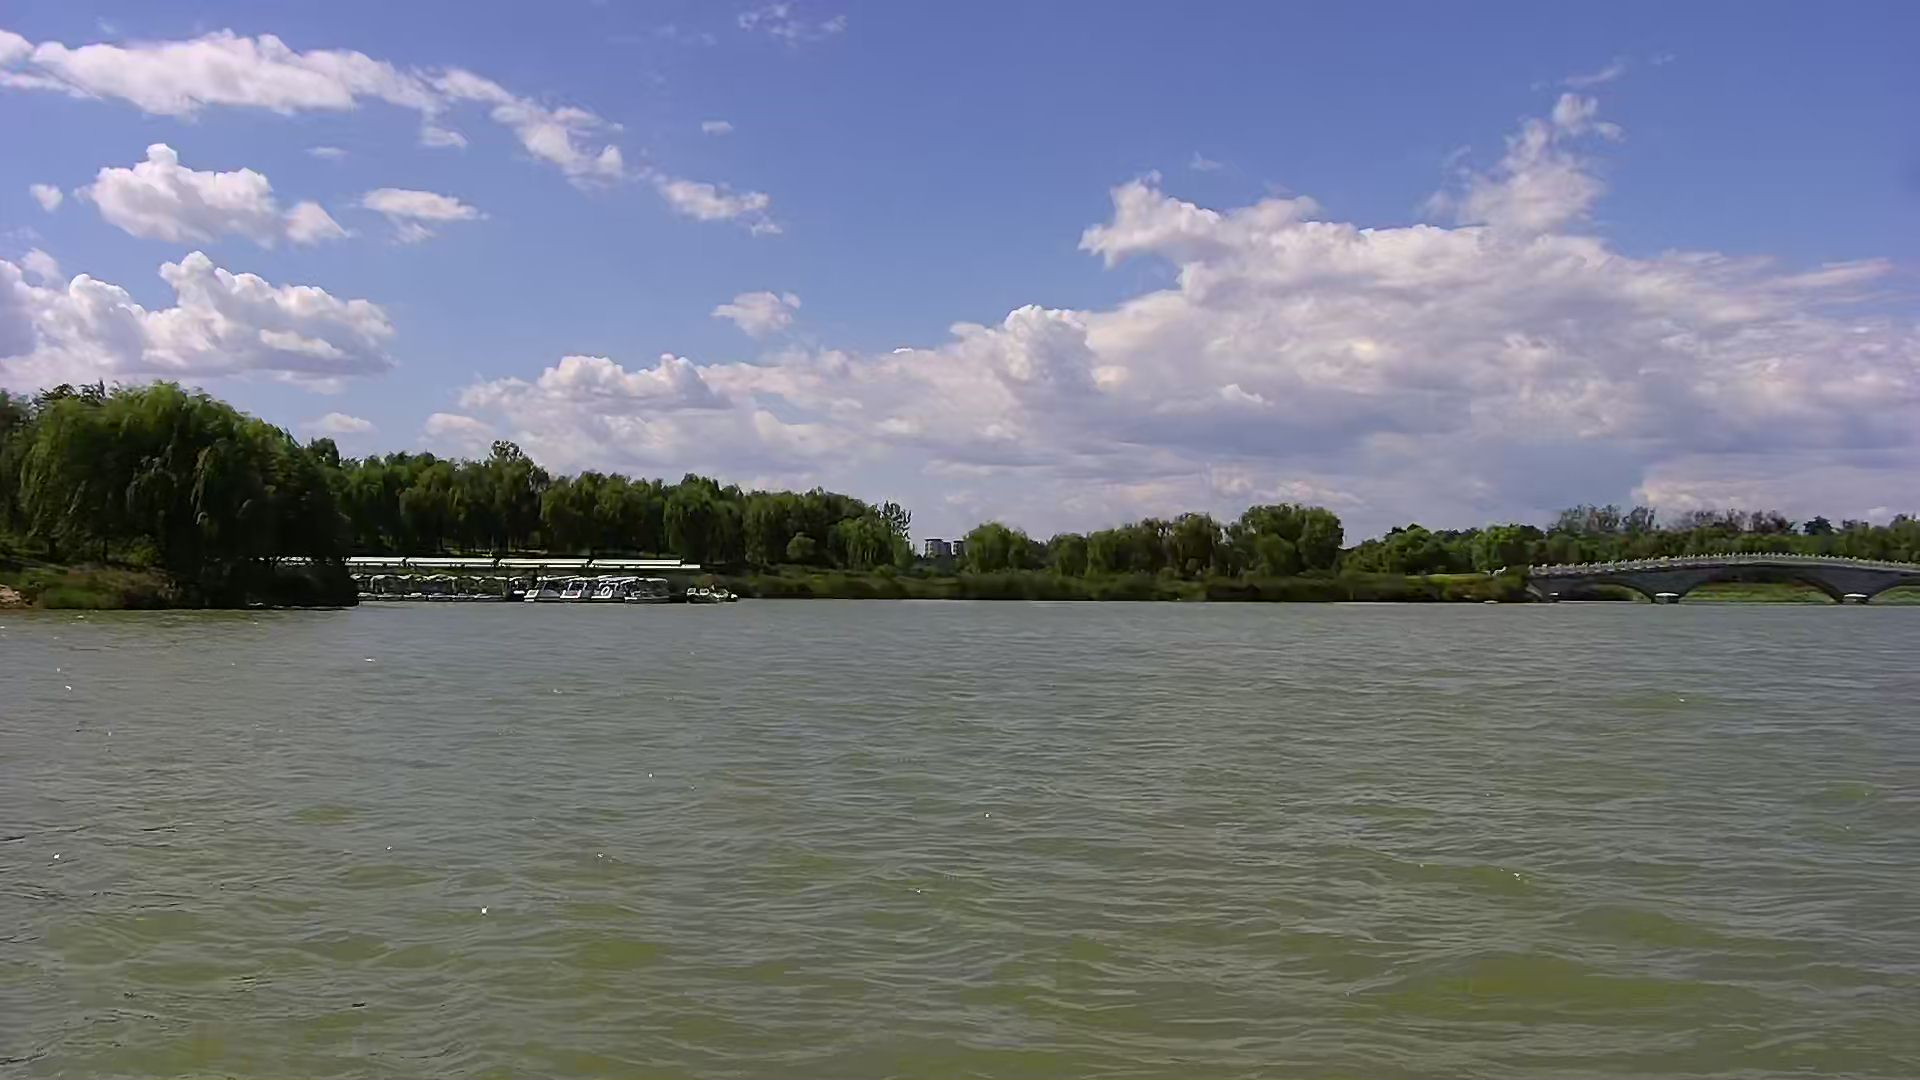bridge: (1528, 549, 1920, 604)
harbor: (345, 554, 740, 604)
